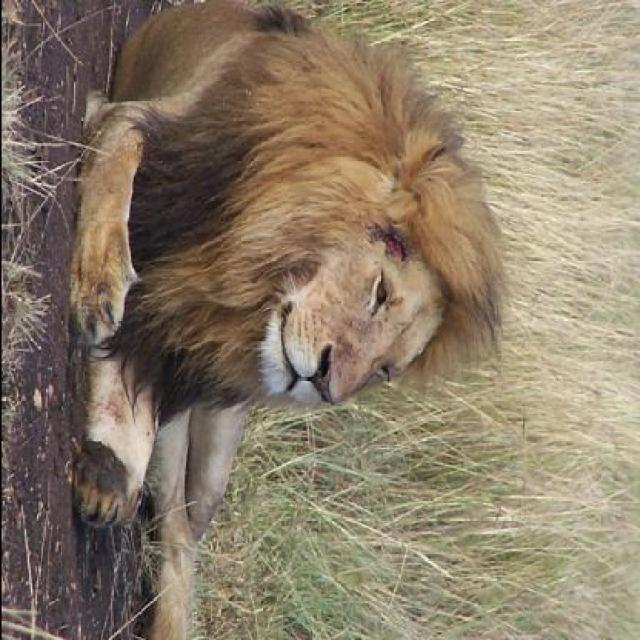Lion: (60, 6, 534, 554)
